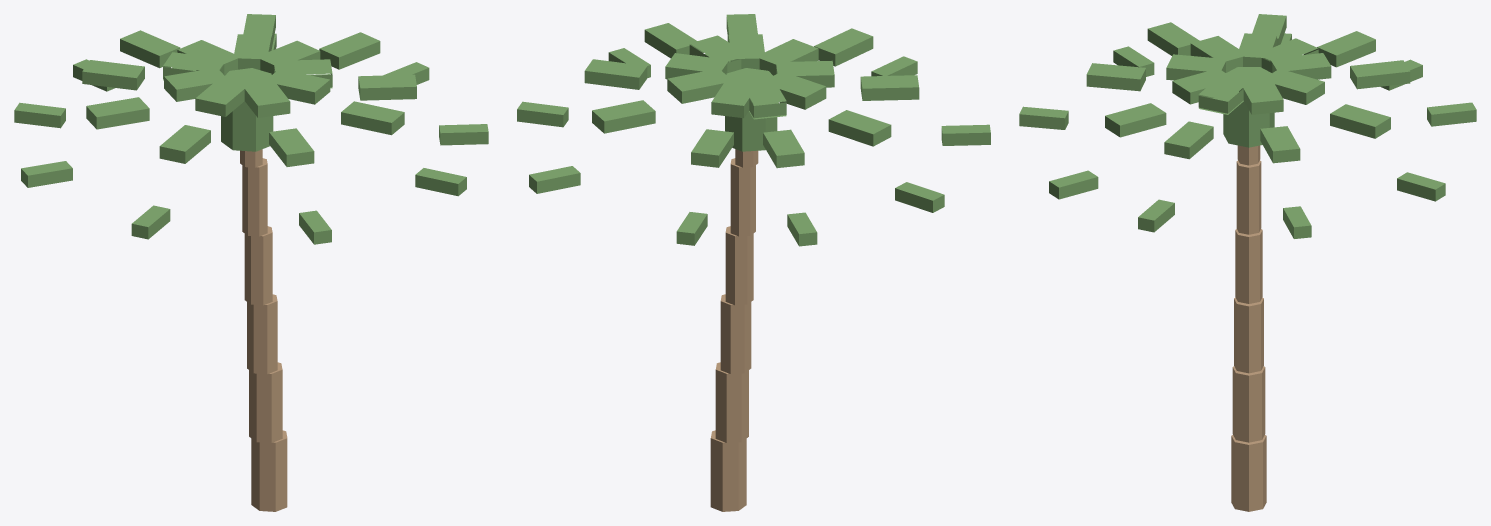
File: Palm_Small.fbx
3 views of the same model, side by side, from view 1: azimuth 30°, elevation 25°; view 2: azimuth 150°, elevation 25°; view 3: azimuth 270°, elevation 25° (orthographic). The views are drawn at different scales.
Visible parts, largest first — view 1: Palm_Small; view 2: Palm_Small; view 3: Palm_Small.
Part boxes in pixels (x1,y1,x2,y2): Palm_Small: (14,14,488,511); Palm_Small: (517,14,990,511); Palm_Small: (1019,14,1476,511).
Size of the model in its own units: 2.8 by 2.87 by 2.79.
